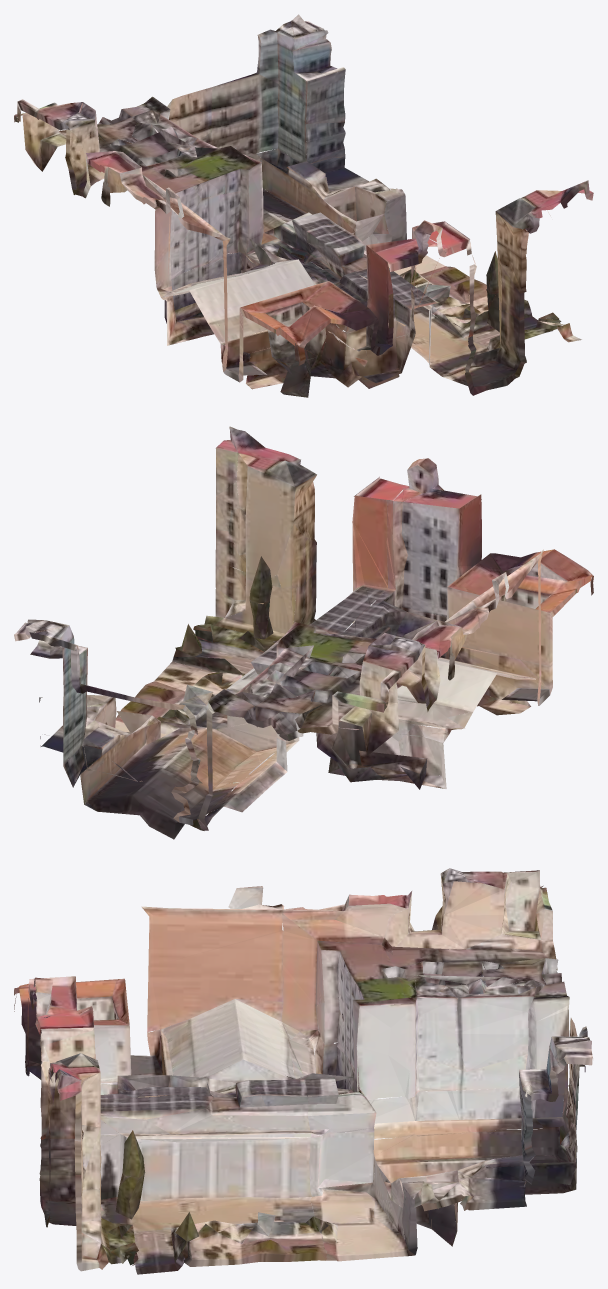
3 renders of one model, top to bottom at view 1: azimuth 30°, elevation 25°; view 2: azimuth 150°, elevation 25°; view 3: azimuth 270°, elevation 25°, orthographic. The views are drawn at different scales.
Parts seen in each view (by area): view 1: Mesh_0; view 2: Mesh_0; view 3: Mesh_0.
Boxes of the visible parts, box(x1,y1,x2,y2) form: Mesh_0: box(14, 14, 593, 397); Mesh_0: box(14, 426, 593, 839); Mesh_0: box(14, 868, 592, 1274).
Bounding box in the file's own units: 66.54 × 35.42 × 82.51.
Materials: 2 (2 with a texture image).
